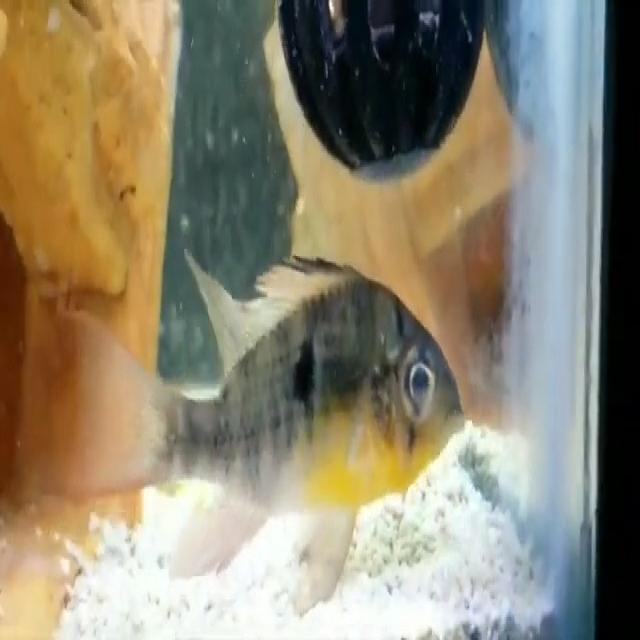fish: (70, 251, 470, 617)
